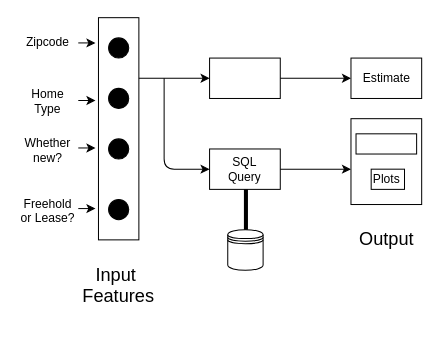
This 446x343 diagram has some shape labels left out. The shapes that lost their labels are listed below. From the top down, each one's box as (x1, y1, x2, y2) in pixels, then its label:
(209, 57, 280, 98): ML Query
(355, 133, 417, 154): Average
